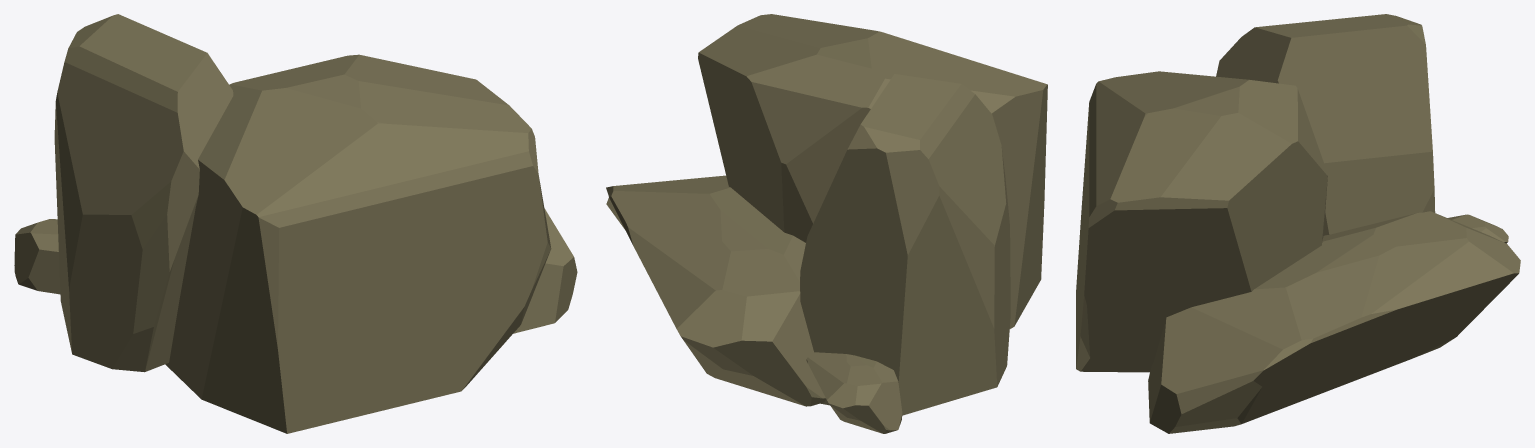
File: DesertRock1.fbx
3 views of the same model, side by side, from view 1: azimuth 30°, elevation 25°; view 2: azimuth 150°, elevation 25°; view 3: azimuth 270°, elevation 25° (orthographic). The views are drawn at different scales.
Parts seen in each view (by area): view 1: Desert.544; view 2: Desert.544; view 3: Desert.544.
Part boxes in pixels (bbox=[...]): Desert.544: bbox=[14, 14, 577, 433]; Desert.544: bbox=[606, 14, 1047, 433]; Desert.544: bbox=[1076, 14, 1520, 433].
Bounding box in the file's own units: 5.46 × 3.46 × 5.2.
